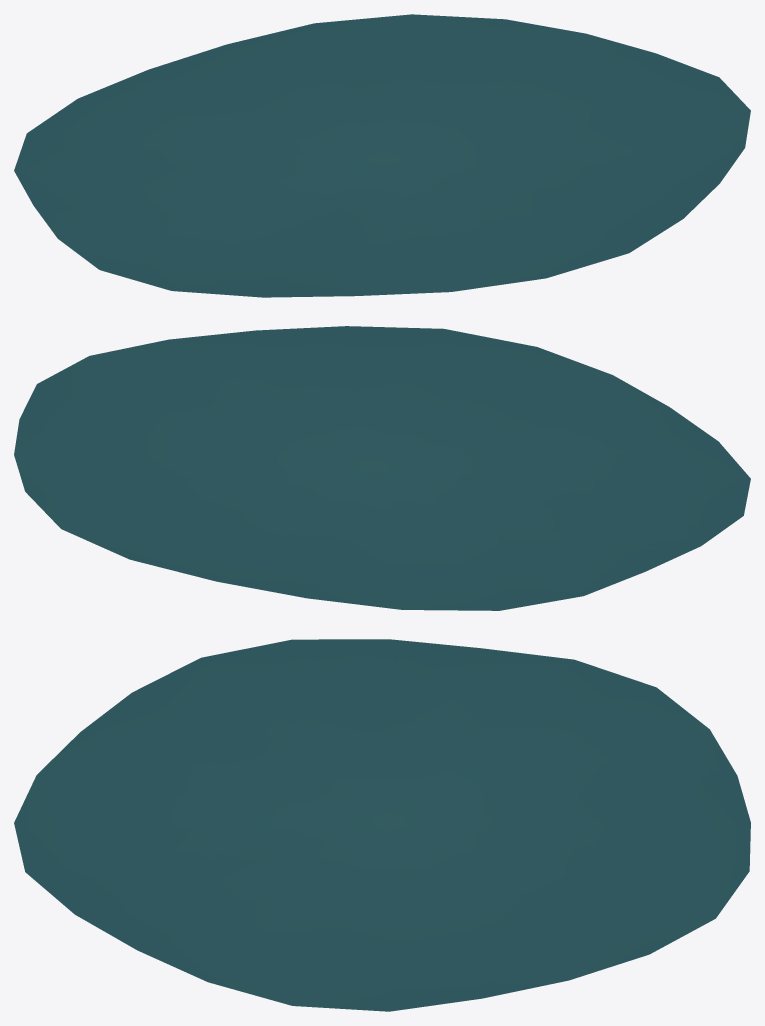
File: water-plane.desktop.glb
3 renders of one model, top to bottom at view 1: azimuth 30°, elevation 25°; view 2: azimuth 150°, elevation 25°; view 3: azimuth 270°, elevation 25°, orthographic. The views are drawn at different scales.
Visible parts, largest first — view 1: SA_G07_MESH_60; view 2: SA_G07_MESH_60; view 3: SA_G07_MESH_60.
Part boxes in pixels (x1=…): SA_G07_MESH_60: x1=14, y1=14, x2=750, y2=297; SA_G07_MESH_60: x1=14, y1=326, x2=750, y2=610; SA_G07_MESH_60: x1=14, y1=639, x2=750, y2=1011.
Size of the model in its own units: 12.1 by 0.016 by 10.12.
